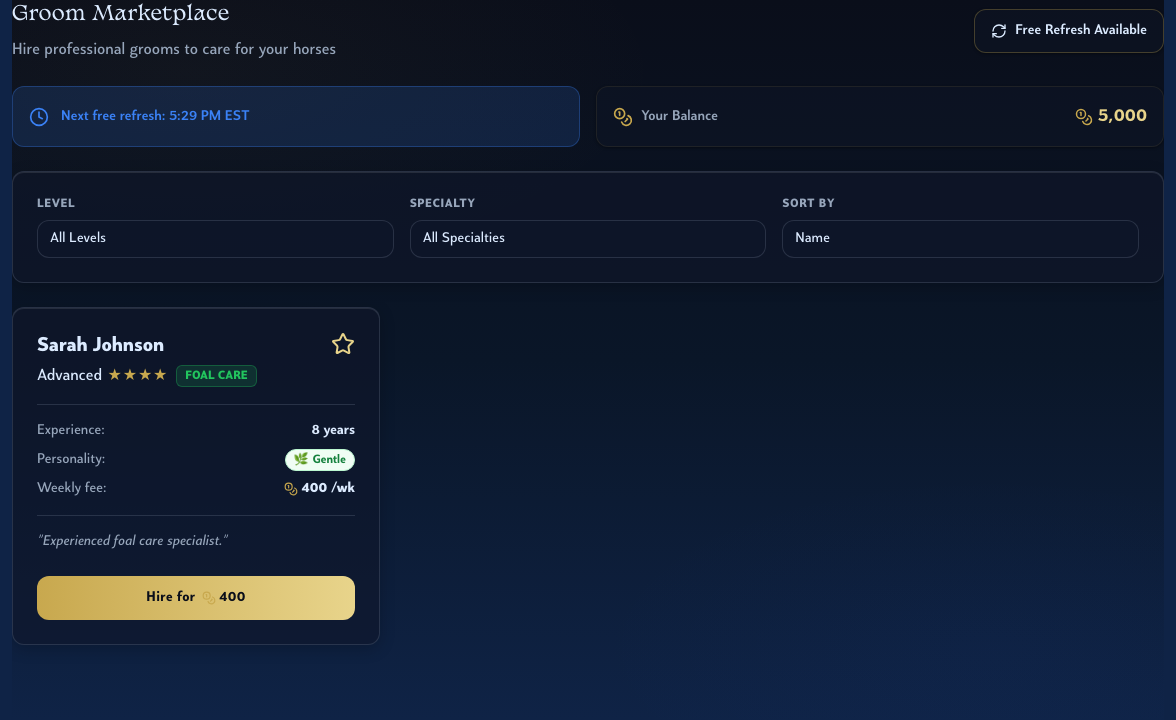
Test: GroomList — refusal codes (Equoria-dosig) › a 400 without a code still says the roster may be full or the balance short
The width and height of the screenshot is (1176, 720).
Click the button with aria-label "hire sarah johnson". click: (196, 598)
box: [37,576,355,620]
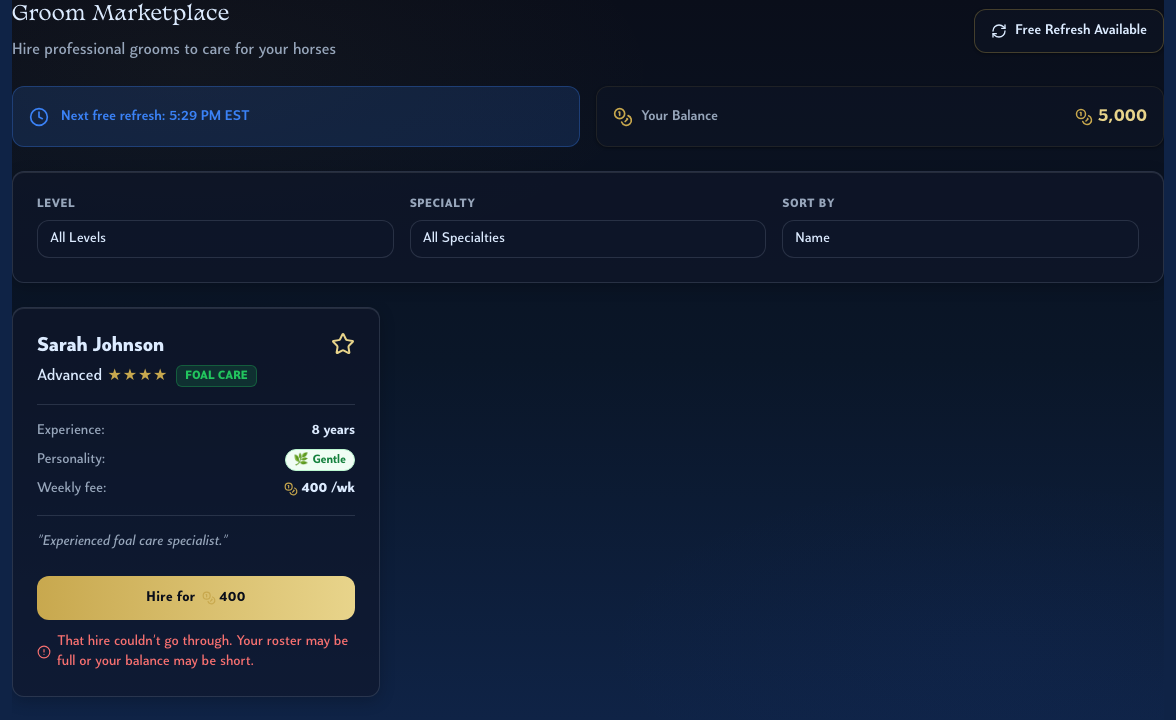
Expected: the message shows "roster", [57,634,348,669]
Expected: the message shows "balance", [57,634,348,669]
